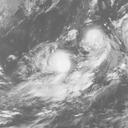cyclone: (41, 47, 72, 75), (81, 27, 108, 56)
